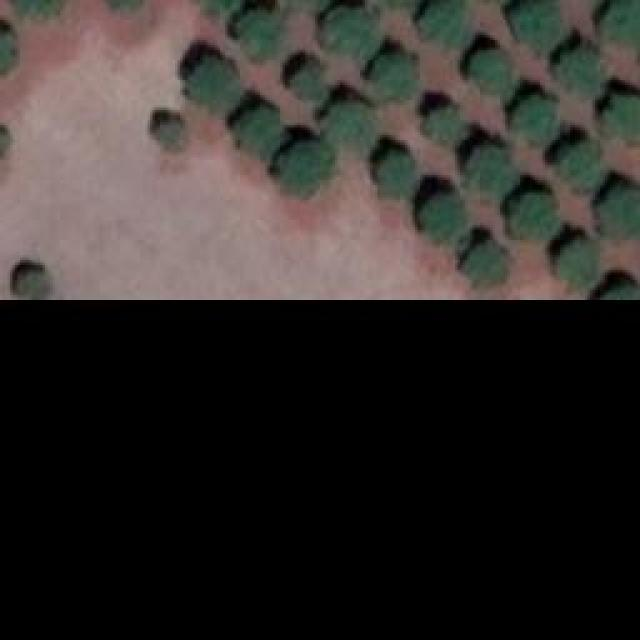Tree: (318, 10, 378, 63), (188, 55, 241, 115), (280, 140, 330, 198), (323, 100, 376, 153), (512, 3, 560, 58), (420, 0, 473, 48), (510, 98, 558, 148), (235, 108, 280, 161), (238, 10, 283, 63), (557, 50, 605, 98), (467, 147, 515, 195), (470, 50, 513, 103), (558, 140, 601, 190), (423, 195, 466, 245), (597, 187, 640, 237), (373, 55, 416, 103), (510, 195, 555, 240), (600, 0, 640, 48), (602, 95, 640, 140), (557, 243, 595, 286), (463, 245, 503, 285), (378, 153, 413, 198), (423, 107, 463, 145), (290, 65, 325, 100), (593, 272, 636, 300), (15, 270, 50, 298), (157, 120, 185, 148), (195, 0, 238, 18), (13, 0, 58, 15), (0, 30, 15, 73)
